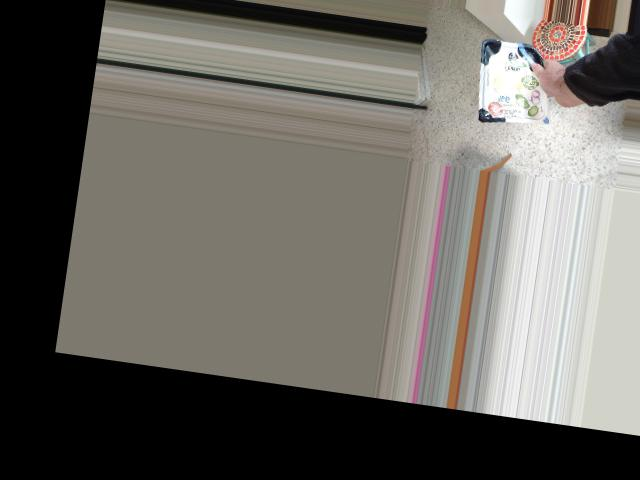cheese: (488, 41, 583, 134)
